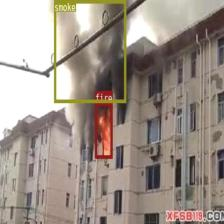fire: (94, 102, 113, 158)
smoke: (54, 0, 126, 102)
